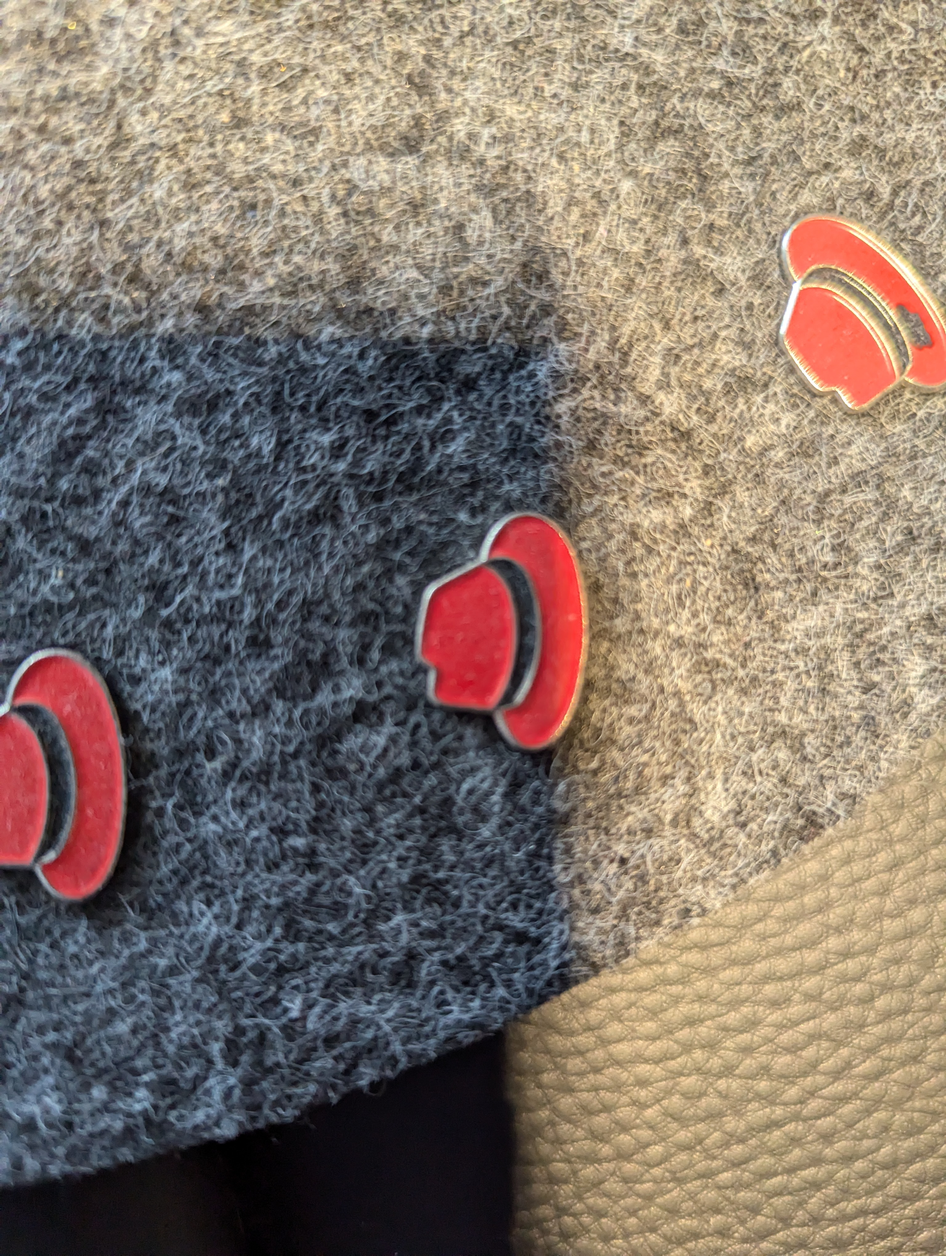Red-Hat: (387, 473, 629, 782), (0, 610, 162, 939), (751, 184, 946, 443)
Scratch: (880, 277, 937, 364)
